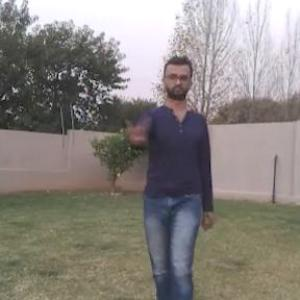takeoff-hand: (117, 109, 154, 145)
